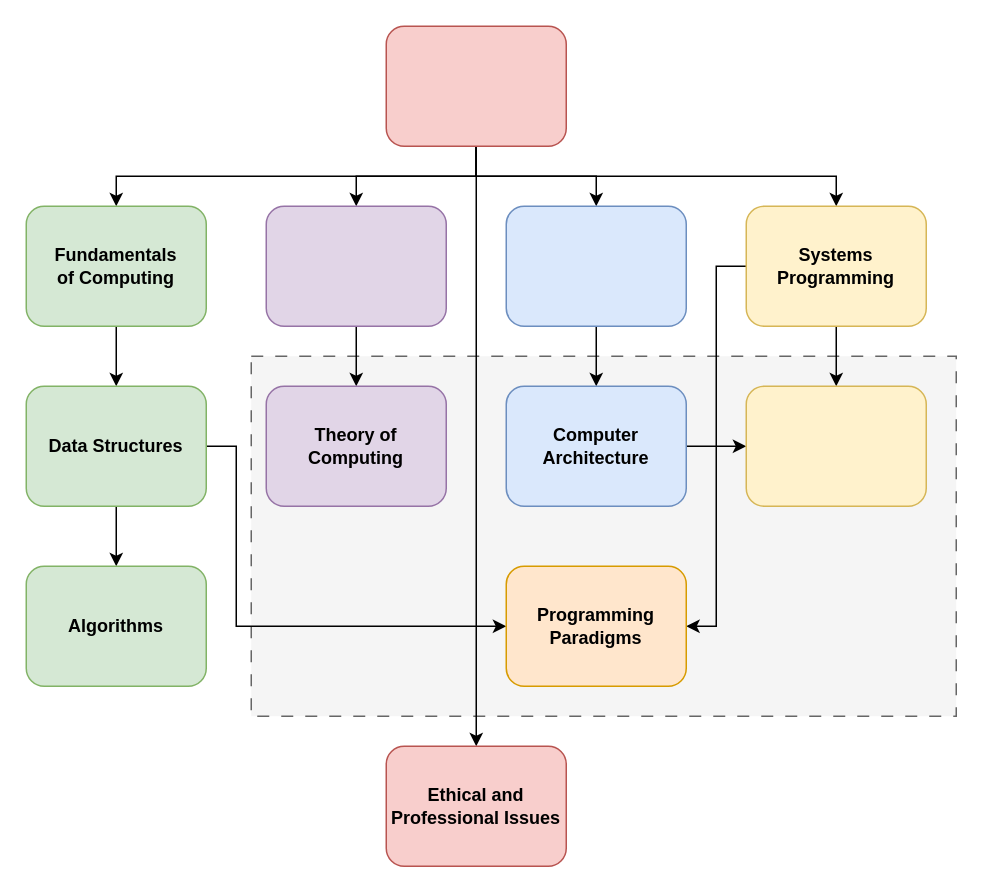
This 983x893 diagram has some shape labels left out. Each missing label, with the centre of its shape:
"Discrete Math" goes at (355,265).
"Intro to Engineering" goes at (475,85).
"Logic Design" goes at (595,265).
"Operating System Principles" goes at (835,445).
